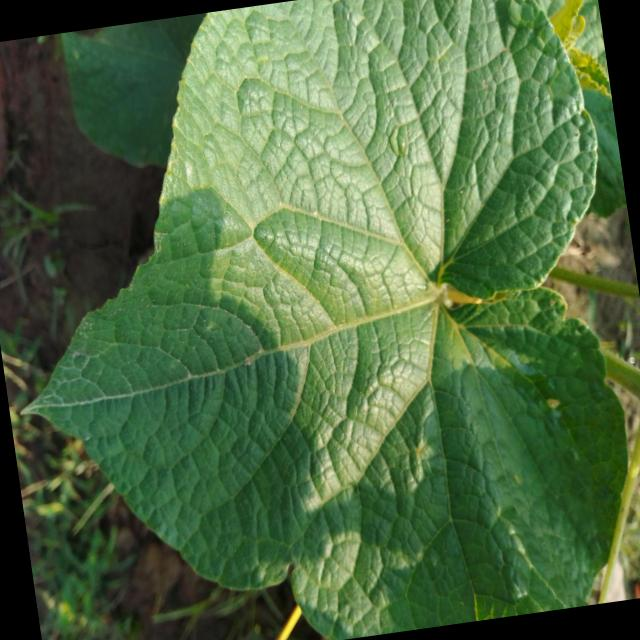cucumber_healthy: (0, 0, 640, 640), (58, 13, 228, 191)
